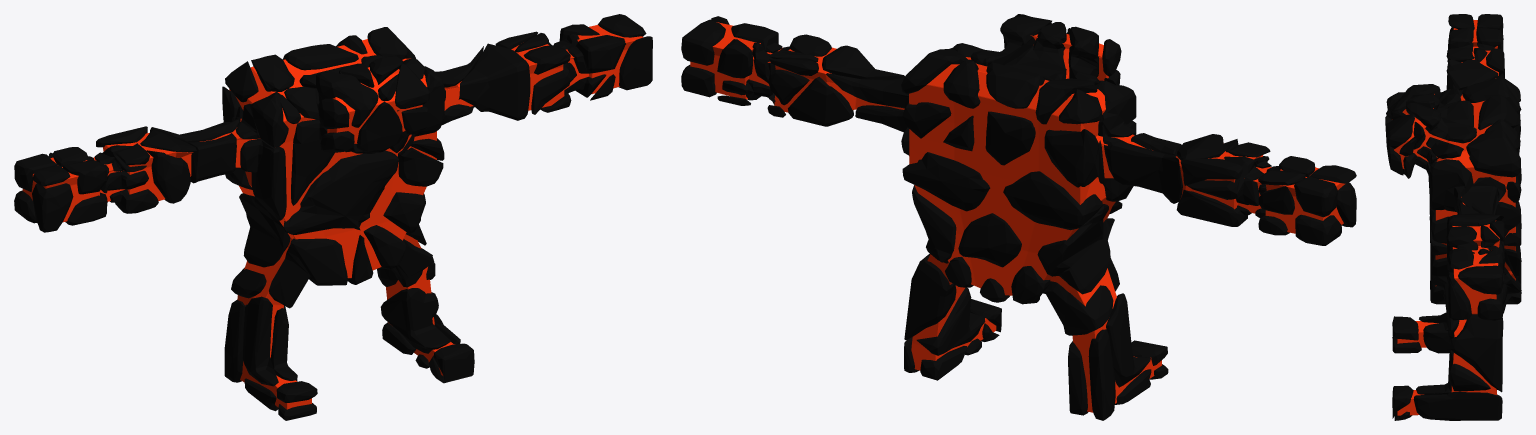
Rendered from lava_monster.obj.
The picture shows the model from 3 angles, left to right: view 1: azimuth 30°, elevation 25°; view 2: azimuth 150°, elevation 25°; view 3: azimuth 270°, elevation 25°; orthographic projection. The views are drawn at different scales.
Parts seen in each view (by area): view 1: Cube.001_cell_Cube.001_cell.106, Cube.001; view 2: Cube.001_cell_Cube.001_cell.106, Cube.001; view 3: Cube.001_cell_Cube.001_cell.106, Cube.001.
Part boxes in pixels (<box>): Cube.001_cell_Cube.001_cell.106: <box>14,14,652,420</box>; Cube.001: <box>22,25,643,409</box>; Cube.001_cell_Cube.001_cell.106: <box>681,14,1356,420</box>; Cube.001: <box>690,22,1345,412</box>; Cube.001_cell_Cube.001_cell.106: <box>1385,14,1521,420</box>; Cube.001: <box>1392,20,1515,415</box>.
Bounding box in the file's own units: 7.01 × 3.5 × 1.53.
